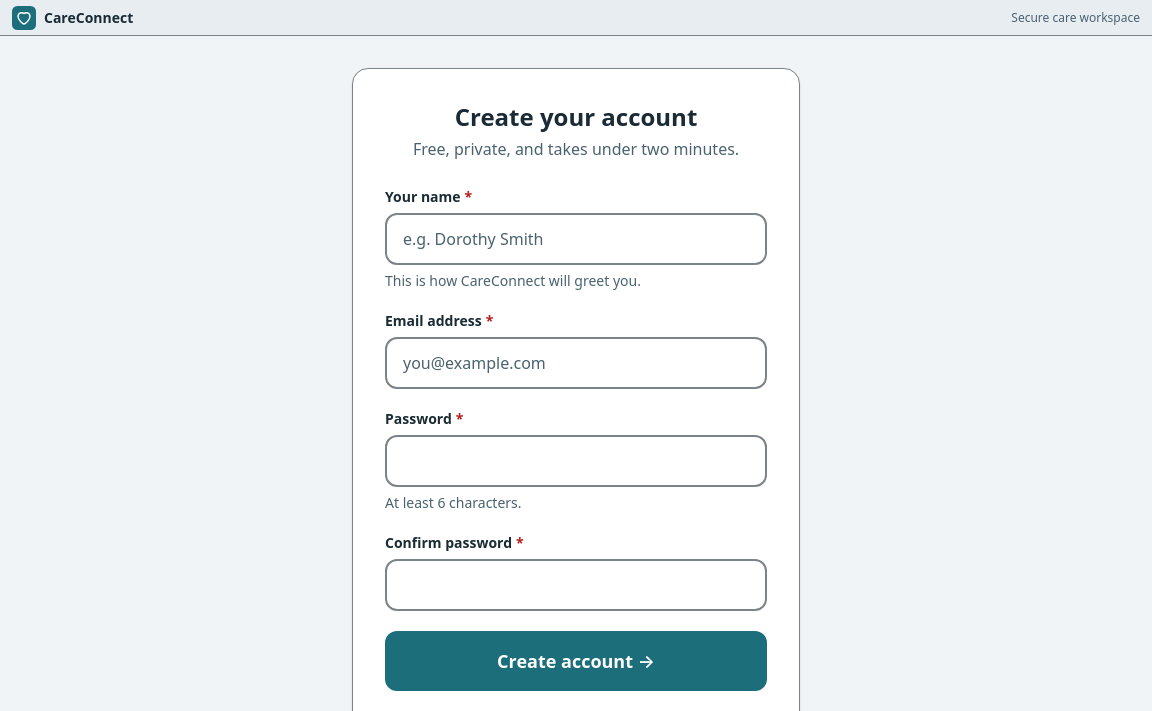
Scenario: SignUpPage and SignInPage › sign up succeeds with valid data
The width and height of the screenshot is (1152, 711).
Type "Jane Roe" into the field labelled "Your name*" at coordinates (576, 239), box [385,213,767,265]
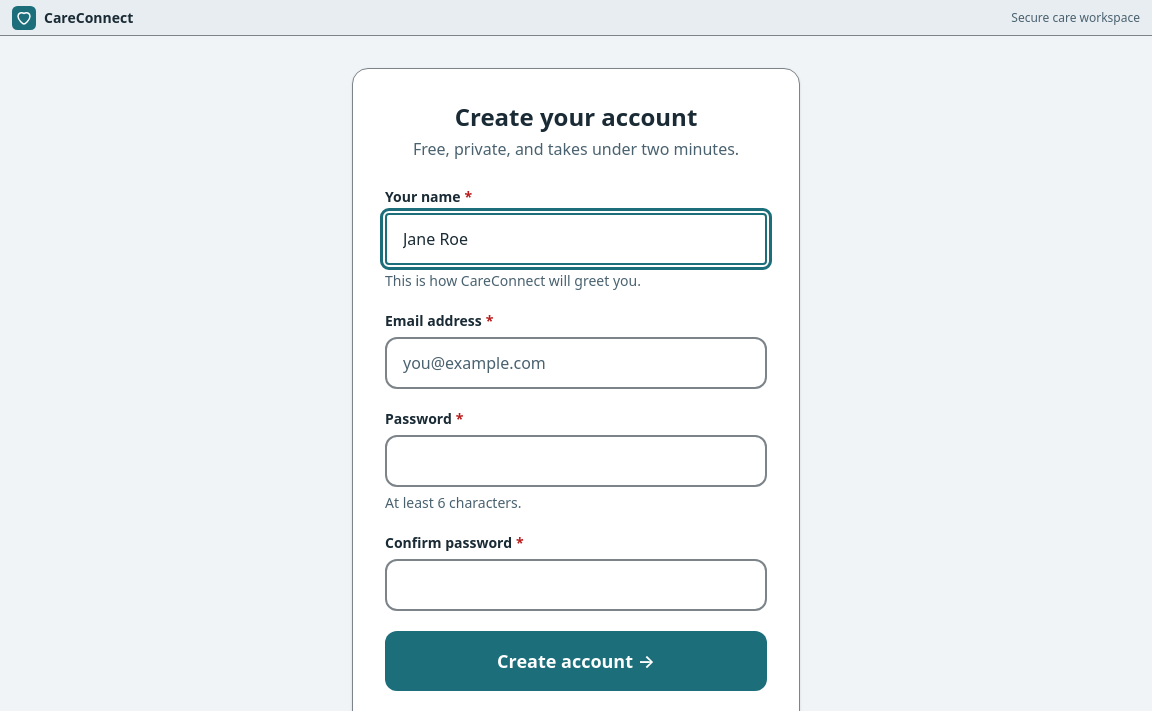
Type "jane@example.com" into the field labelled "Email address*" at coordinates (576, 363), box [385,337,767,389]
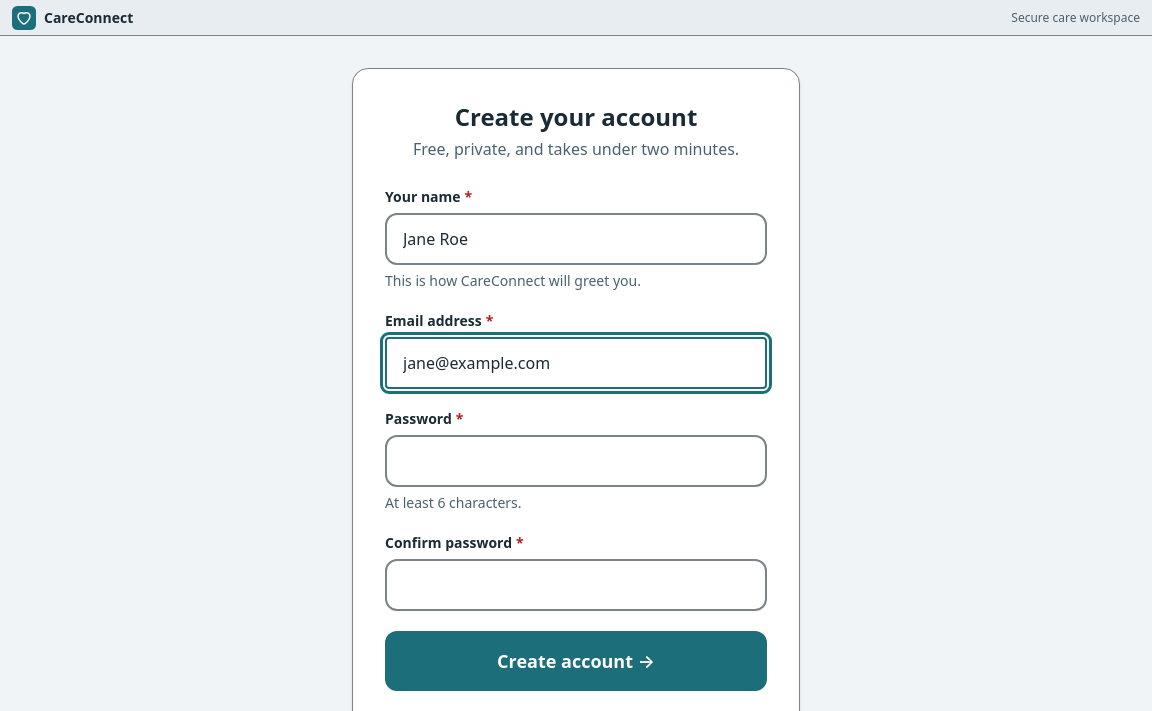
Type "secret1" into the password field labelled "Password*" at coordinates (576, 461), box [385,435,767,487]
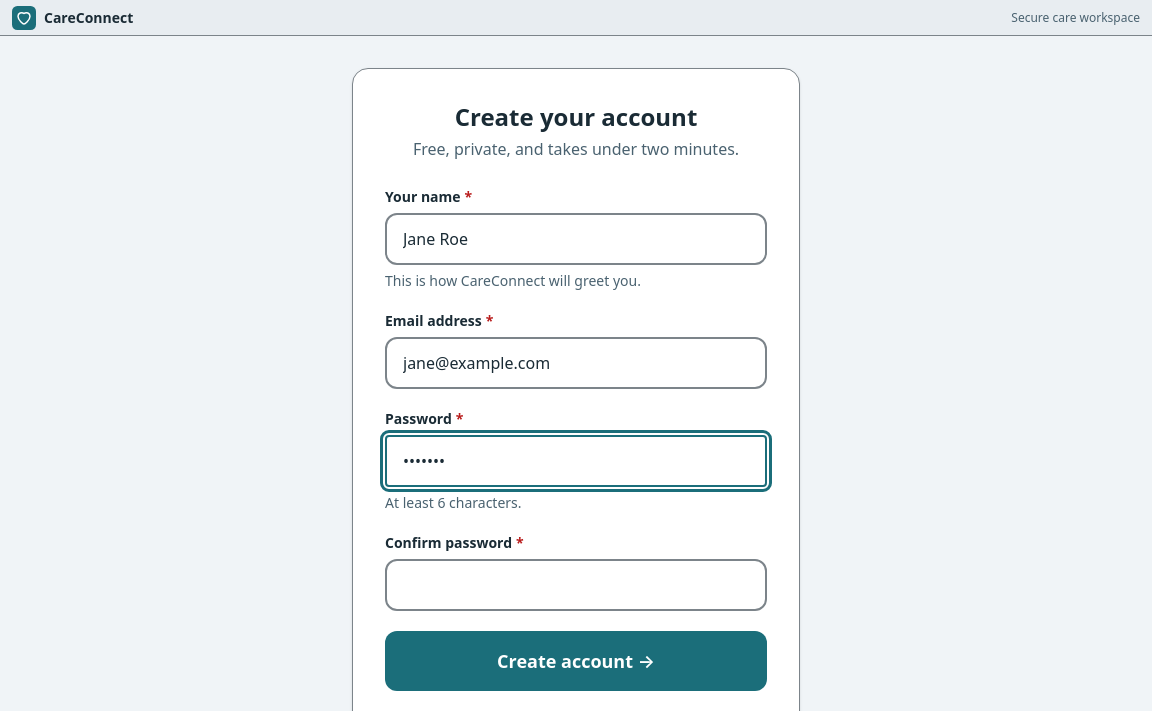
Type "secret1" into the password field labelled "Confirm password*" at coordinates (576, 585), box [385,559,767,611]
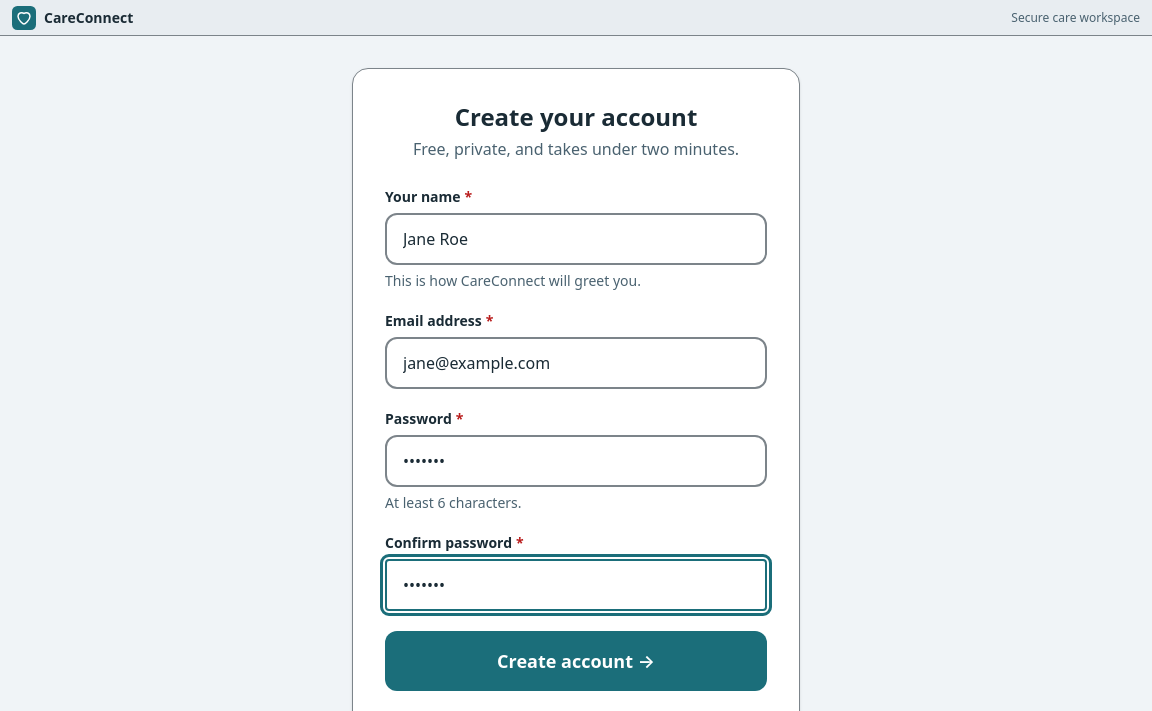
Click the button "Create account →" at coordinates (576, 661), box [385,631,767,691]
Wait 800 ms
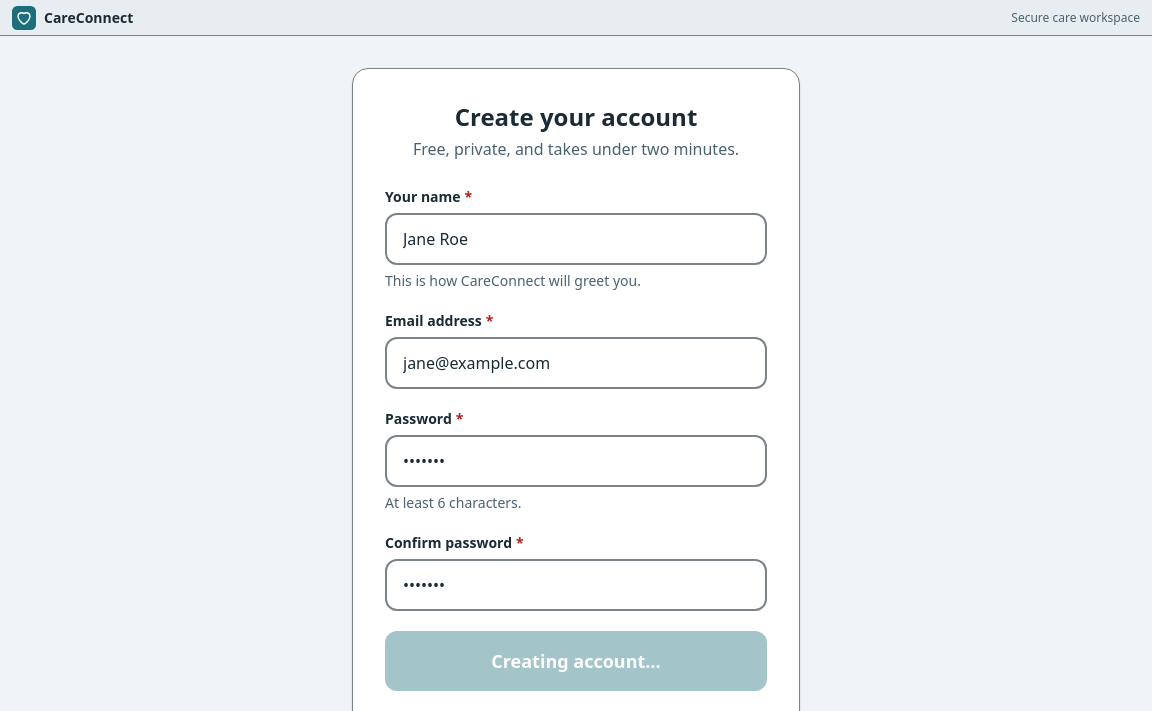
Now the button "Creating account…" is disabled, box [385,631,767,691]
